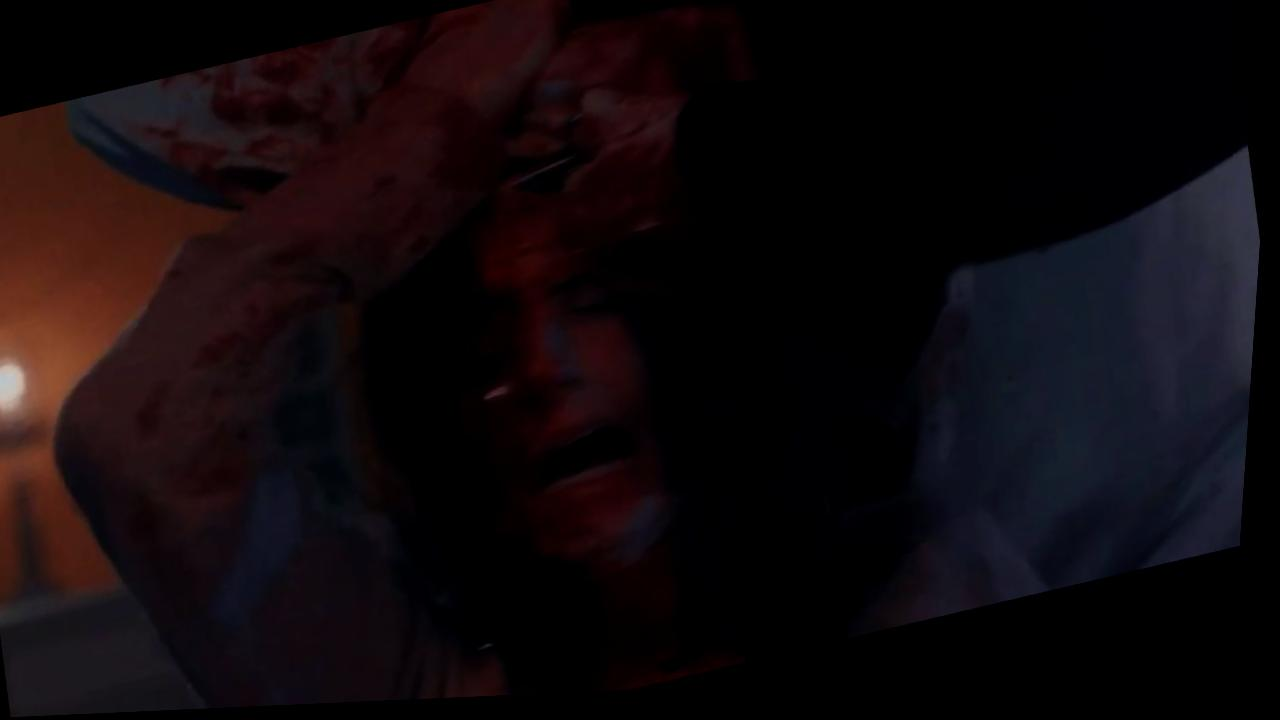Fire: (73, 0, 884, 711)
